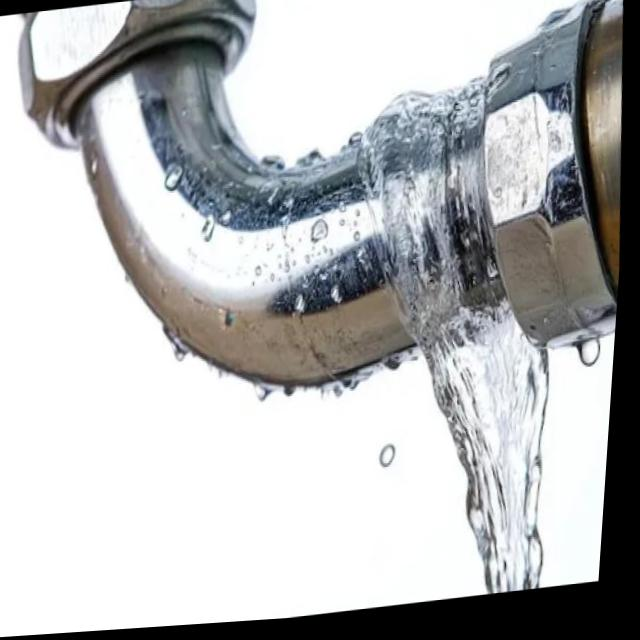leak: (363, 80, 547, 593)
